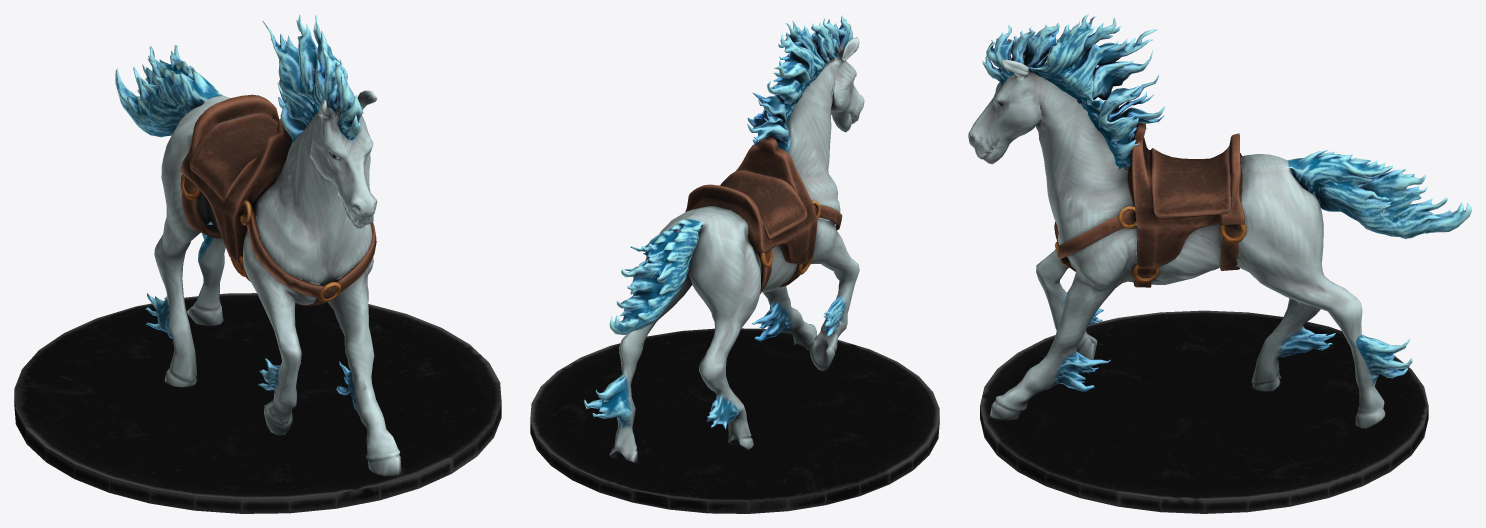
File: MZ4250 - Phantom Steed.glb
3 views of the same model, side by side, from view 1: azimuth 30°, elevation 25°; view 2: azimuth 150°, elevation 25°; view 3: azimuth 270°, elevation 25° (orthographic). The views are drawn at different scales.
Visible parts, largest first — view 1: base_low.001, horse_low.001, harness_low.001; view 2: base_low.001, horse_low.001, harness_low.001; view 3: horse_low.001, base_low.001, harness_low.001.
Part boxes in pixels (x1,y1,x2,y2): base_low.001: [14, 293, 501, 513]; horse_low.001: [115, 14, 401, 476]; harness_low.001: [180, 94, 376, 306]; base_low.001: [530, 328, 939, 513]; horse_low.001: [584, 15, 864, 463]; harness_low.001: [685, 136, 842, 294]; horse_low.001: [968, 14, 1471, 428]; base_low.001: [980, 310, 1428, 513]; harness_low.001: [1054, 123, 1246, 287].
Bounding box in the file's own units: 4.15 × 4.11 × 4.66.
1 material, 1 textured.
